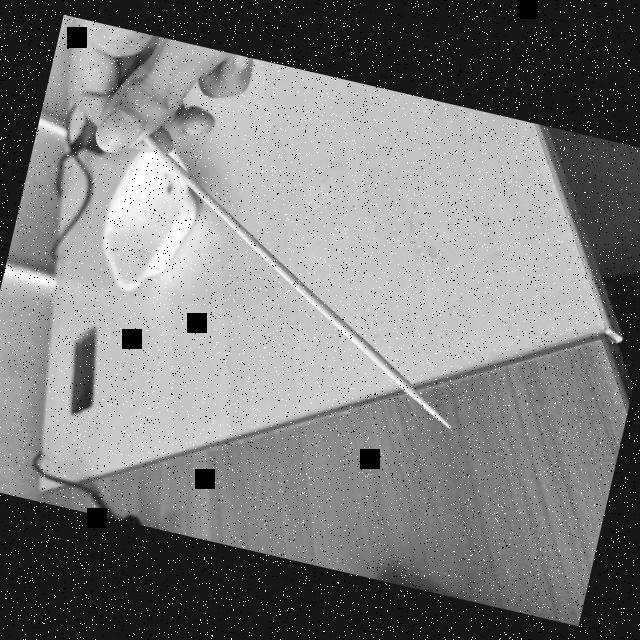cardboard_bowl: (78, 128, 214, 302)
stick: (39, 84, 522, 444)
